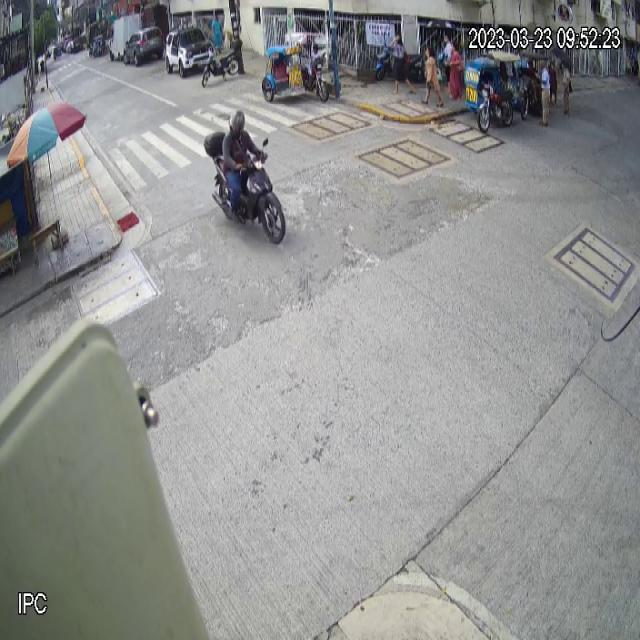Motorcycle: (203, 132, 286, 245)
Tricycle: (261, 31, 330, 105), (465, 48, 521, 132)
